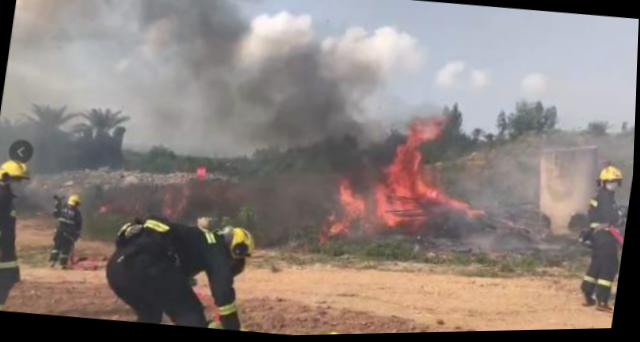fire: (311, 111, 495, 263)
